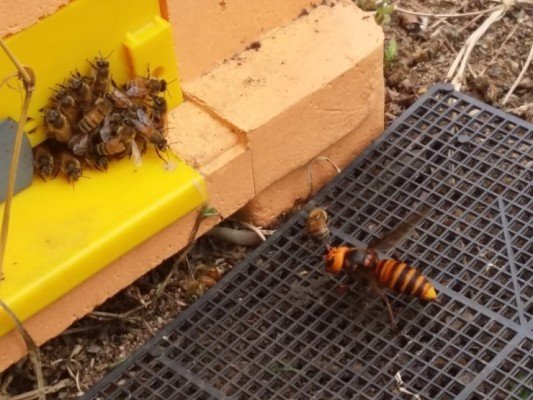asian_giant_hornet: (318, 241, 440, 327)
